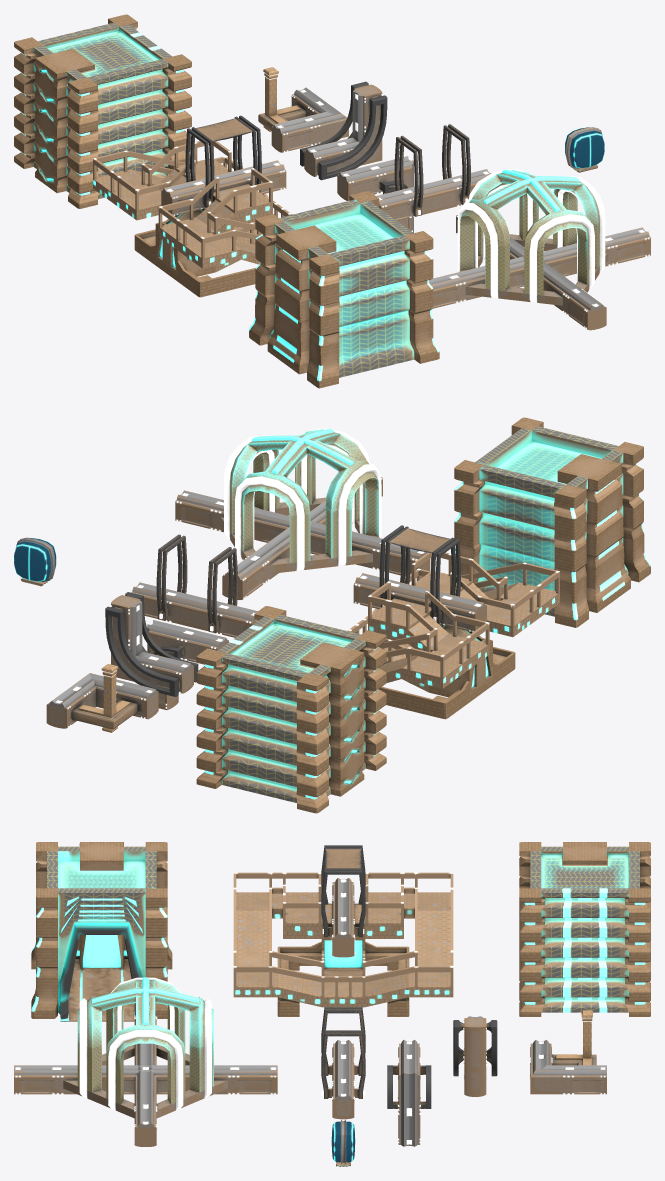
The picture shows the model from 3 angles, top to bottom: view 1: azimuth 30°, elevation 25°; view 2: azimuth 150°, elevation 25°; view 3: azimuth 270°, elevation 25°; orthographic projection. The views are drawn at different scales.
Parts seen in each view (by area): view 1: StationTower_Base, StationTower_Midsection, Four_Way_Track, StationTower_Track, Straight_Track, Up_Track, Turn_Track, Down_Track, Car; view 2: StationTower_Midsection, StationTower_Base, Four_Way_Track, StationTower_Track, Straight_Track, Up_Track, Turn_Track, Down_Track, Car; view 3: StationTower_Track, StationTower_Midsection, StationTower_Base, Four_Way_Track, Turn_Track, Straight_Track, Down_Track, Up_Track, Car.
Part boxes in pixels (x1,y1,x2,y2): StationTower_Base: [249, 191, 439, 388]; StationTower_Midsection: [14, 14, 191, 208]; Four_Way_Track: [429, 169, 650, 330]; StationTower_Track: [93, 115, 292, 297]; Straight_Track: [376, 124, 491, 220]; Up_Track: [300, 81, 387, 180]; Turn_Track: [258, 67, 348, 152]; Down_Track: [337, 156, 413, 232]; Car: [565, 127, 604, 168]; StationTower_Midsection: [196, 606, 386, 813]; StationTower_Base: [454, 417, 650, 627]; Four_Way_Track: [175, 428, 430, 599]; StationTower_Track: [347, 525, 559, 719]; Straight_Track: [131, 534, 257, 637]; Up_Track: [105, 592, 198, 696]; Turn_Track: [46, 664, 158, 732]; Down_Track: [147, 620, 228, 710]; Car: [14, 537, 56, 581]; StationTower_Track: [233, 845, 453, 1016]; StationTower_Midsection: [519, 842, 650, 1016]; StationTower_Base: [31, 842, 172, 1021]; Four_Way_Track: [14, 977, 277, 1146]; Turn_Track: [529, 1010, 606, 1094]; Straight_Track: [321, 1007, 365, 1119]; Down_Track: [387, 1040, 431, 1146]; Up_Track: [453, 1016, 497, 1096]; Car: [331, 1120, 355, 1163].
Bounding box in the file's own units: 1.65 × 0.6258 × 2.
Materials: 9 (9 with a texture image).
